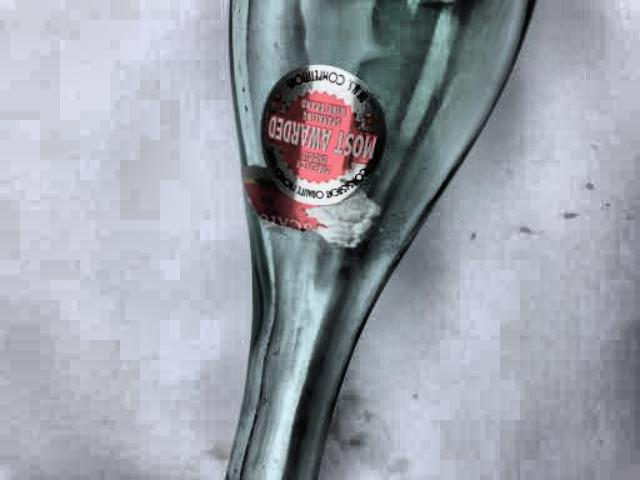Bottles: (185, 0, 545, 478)
